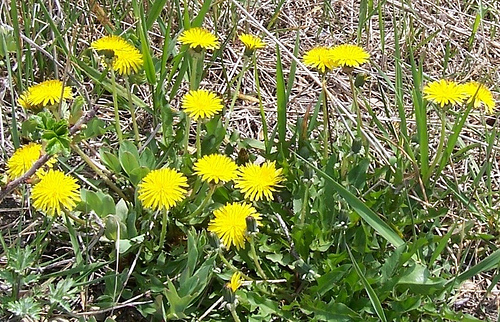dandelion yellow: (207, 200, 263, 251), (26, 169, 81, 217), (18, 77, 76, 120), (137, 168, 190, 212), (232, 159, 285, 202), (89, 35, 146, 73), (4, 143, 58, 183), (191, 151, 239, 188), (180, 89, 225, 124), (459, 76, 497, 112), (420, 78, 467, 107), (329, 42, 370, 74), (177, 27, 218, 55), (301, 46, 337, 76), (238, 33, 266, 57)
